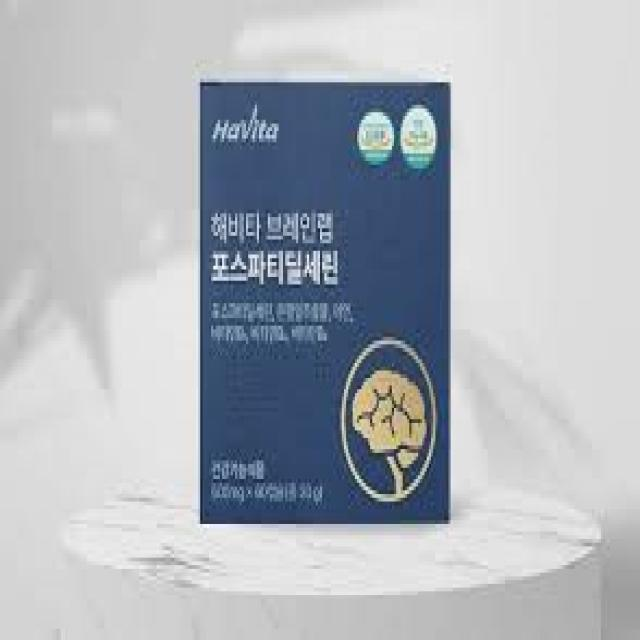GMP: (356, 109, 395, 168)
HEALTHY: (400, 99, 439, 173)
